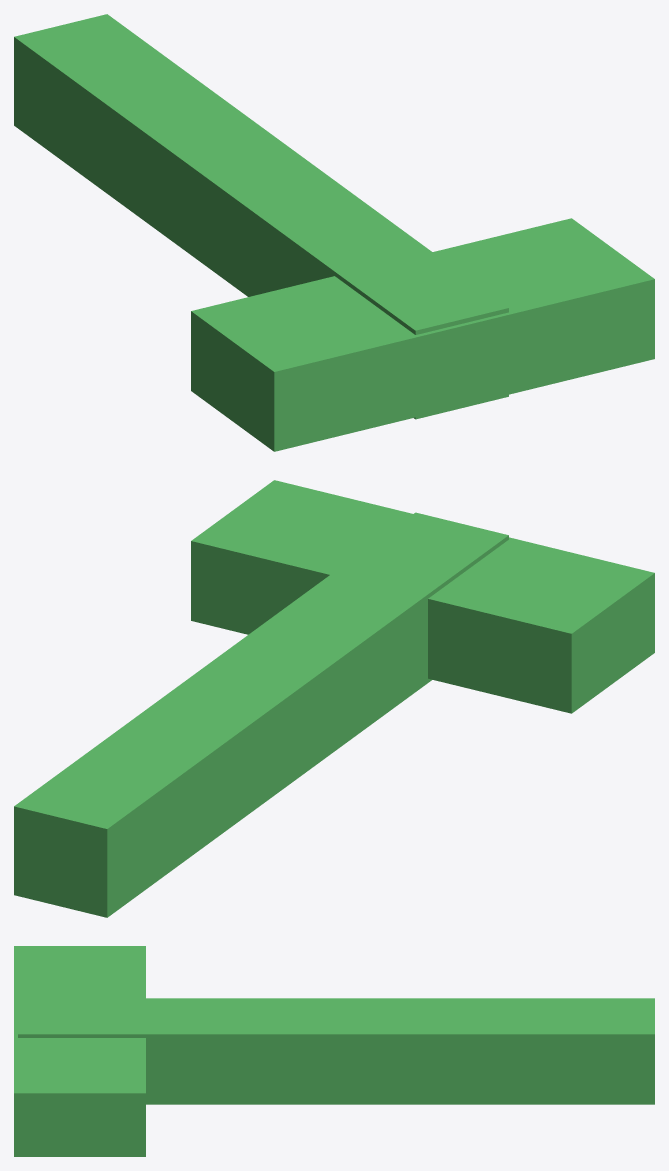
The model's file is pelekys_axe_1h_collision.glb.
3 views of the same model, one above another, from view 1: azimuth 30°, elevation 25°; view 2: azimuth 150°, elevation 25°; view 3: azimuth 270°, elevation 25° (orthographic). The views are drawn at different scales.
Visible parts, largest first — view 1: pelekys_axe_1h-col-haft, pelekys_axe_1h-col-head; view 2: pelekys_axe_1h-col-haft, pelekys_axe_1h-col-head; view 3: pelekys_axe_1h-col-haft, pelekys_axe_1h-col-head.
Boxes of the visible parts, x1,y1,x2,y2 form: pelekys_axe_1h-col-haft: [14, 14, 508, 419]; pelekys_axe_1h-col-head: [191, 218, 654, 451]; pelekys_axe_1h-col-haft: [14, 512, 508, 917]; pelekys_axe_1h-col-head: [191, 480, 654, 713]; pelekys_axe_1h-col-haft: [18, 998, 654, 1104]; pelekys_axe_1h-col-head: [14, 946, 145, 1156].
Size of the model in its own units: 0.4488 by 0.1 by 0.825.
